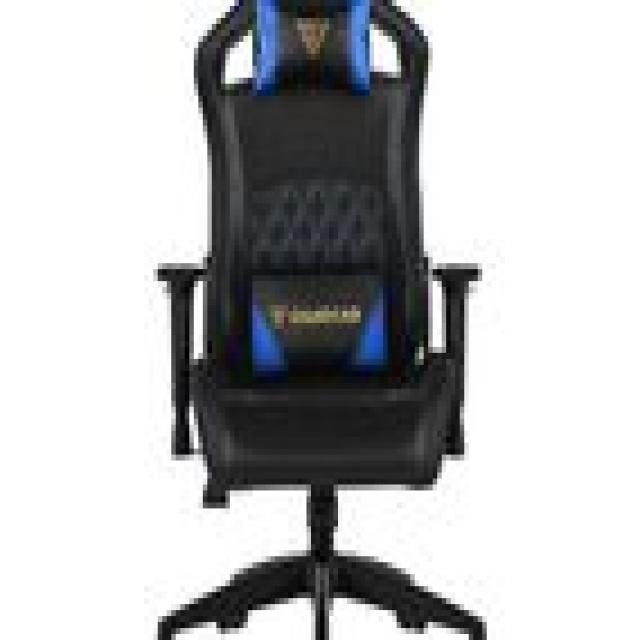others: (135, 6, 541, 634)
